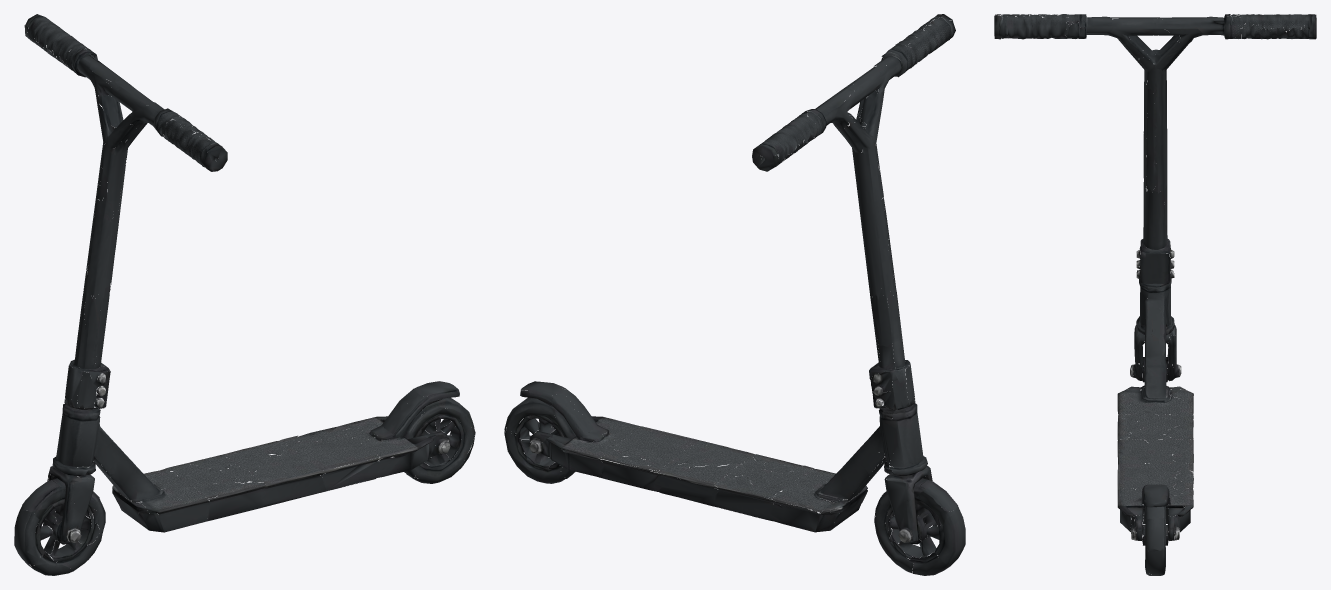
File: scooter.glb
3 views of the same model, side by side, from view 1: azimuth 30°, elevation 25°; view 2: azimuth 150°, elevation 25°; view 3: azimuth 270°, elevation 25° (orthographic). The views are drawn at different scales.
Visible parts, largest first — view 1: tripo_node_1446a549-9df1-48fc-b594-dd8375384091; view 2: tripo_node_1446a549-9df1-48fc-b594-dd8375384091; view 3: tripo_node_1446a549-9df1-48fc-b594-dd8375384091.
Part boxes in pixels (bbox=[...]): tripo_node_1446a549-9df1-48fc-b594-dd8375384091: bbox=[14, 14, 475, 575]; tripo_node_1446a549-9df1-48fc-b594-dd8375384091: bbox=[504, 14, 965, 575]; tripo_node_1446a549-9df1-48fc-b594-dd8375384091: bbox=[994, 14, 1316, 575].
Bounding box in the file's own units: 0.9789 × 0.982 × 0.6759.
1 material, 1 textured.
